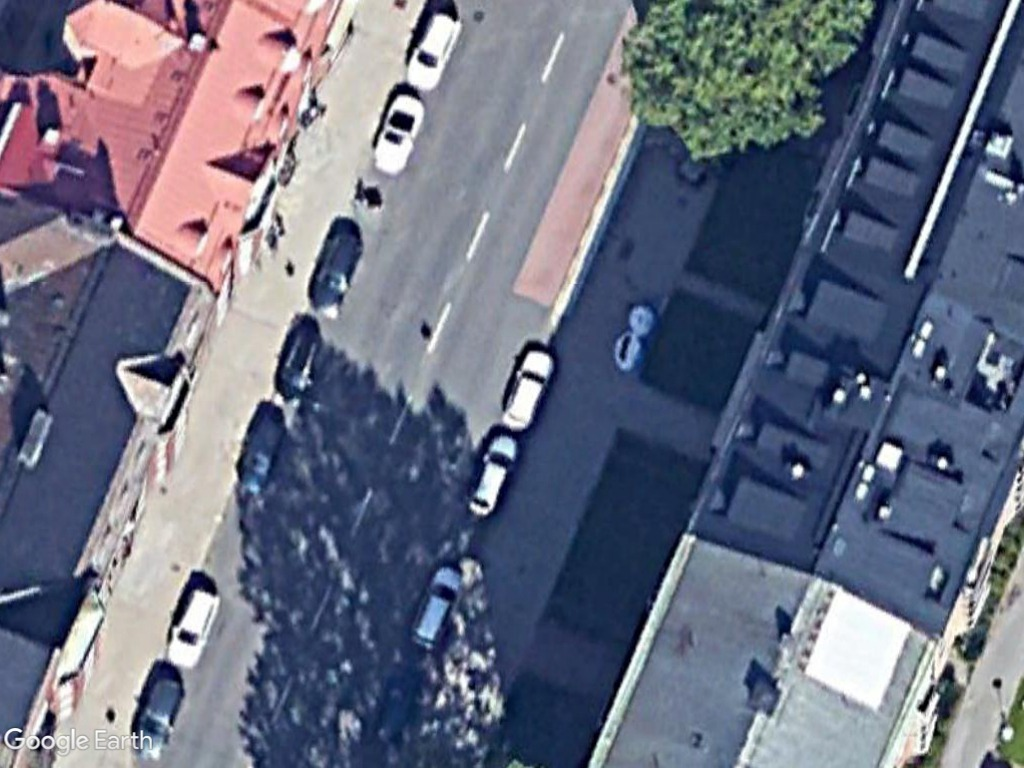car: (397, 1, 474, 96), (157, 574, 223, 673), (493, 338, 560, 434), (401, 560, 467, 654), (304, 226, 364, 320), (461, 429, 523, 517), (368, 87, 428, 174), (235, 408, 292, 497), (272, 313, 326, 406)
